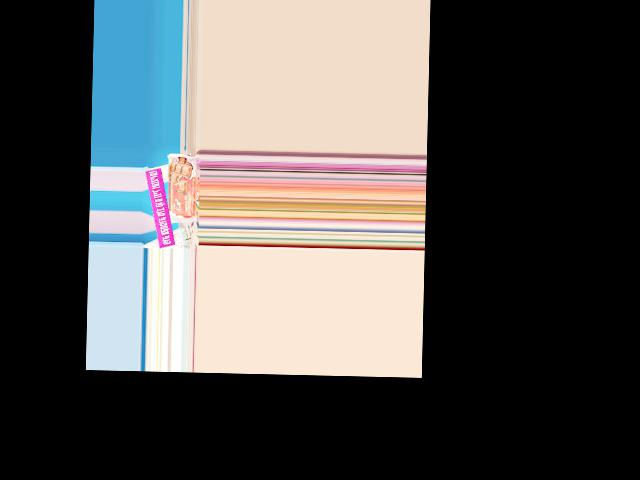chocolate: (165, 151, 198, 225)
